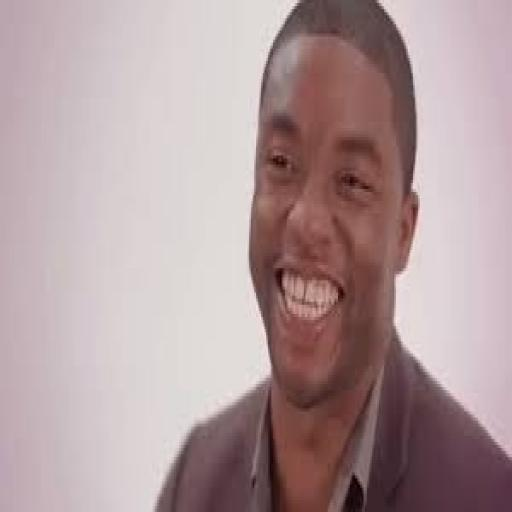laughing: (148, 3, 507, 506)
